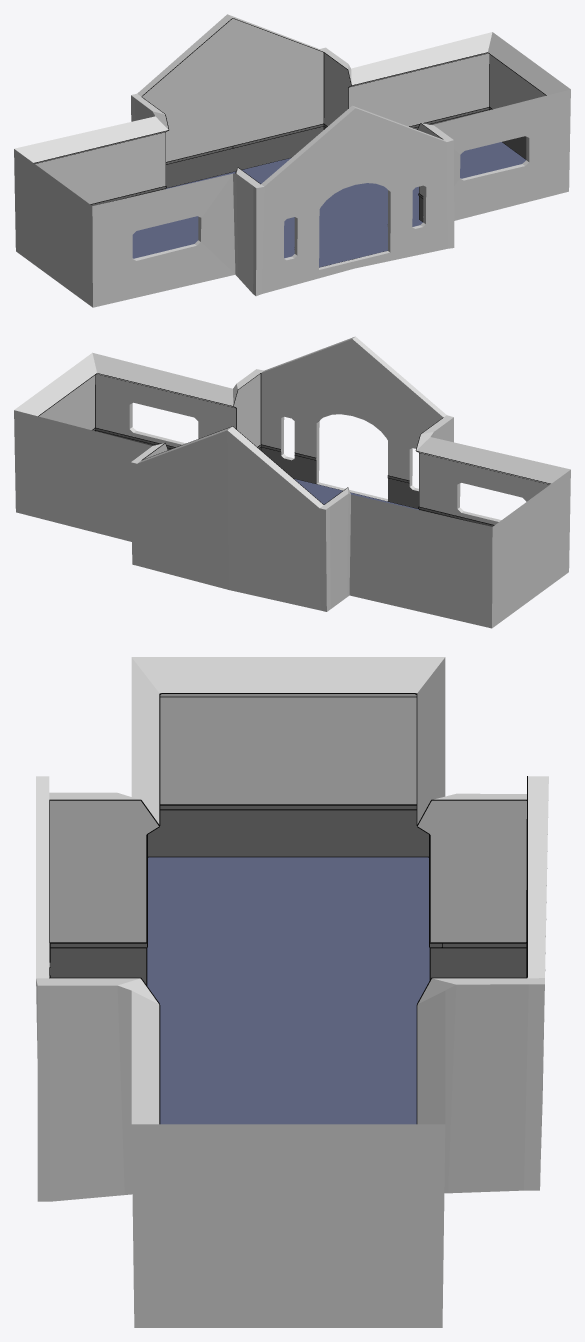
Rendered from structure.fbx.
3 views of the same model, one above another, from view 1: azimuth 30°, elevation 25°; view 2: azimuth 150°, elevation 25°; view 3: azimuth 270°, elevation 25° (orthographic). The views are drawn at different scales.
Visible parts, largest first — view 1: structure, outline.024; view 2: structure, outline.024; view 3: structure, outline.024.
Part boxes in pixels (x1,y1,x2,y2): structure: (14,14,570,307); outline.024: (34,18,546,267); structure: (14,336,570,628); outline.024: (38,373,550,525); structure: (36,657,548,1327); outline.024: (49,693,527,1124).
Size of the model in its own units: 10031 by 3296 by 4656.
